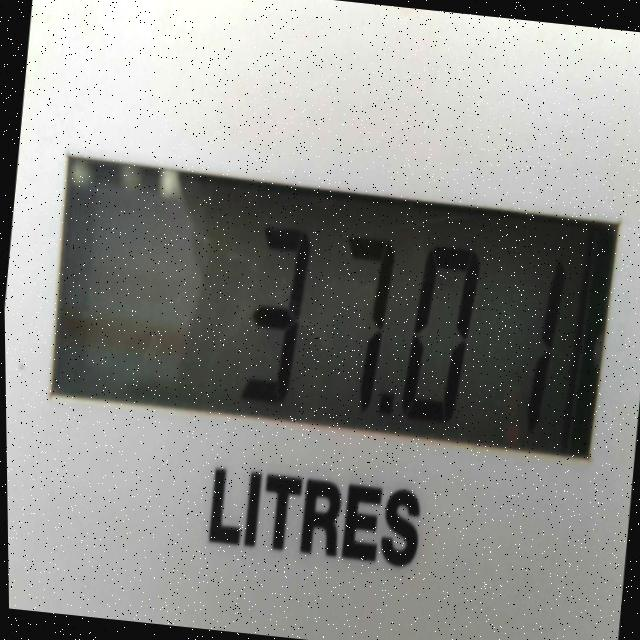.: (371, 379, 401, 434)
0: (386, 239, 503, 433)
1: (510, 248, 582, 440)
3: (224, 216, 321, 420)
7: (322, 221, 404, 434)
